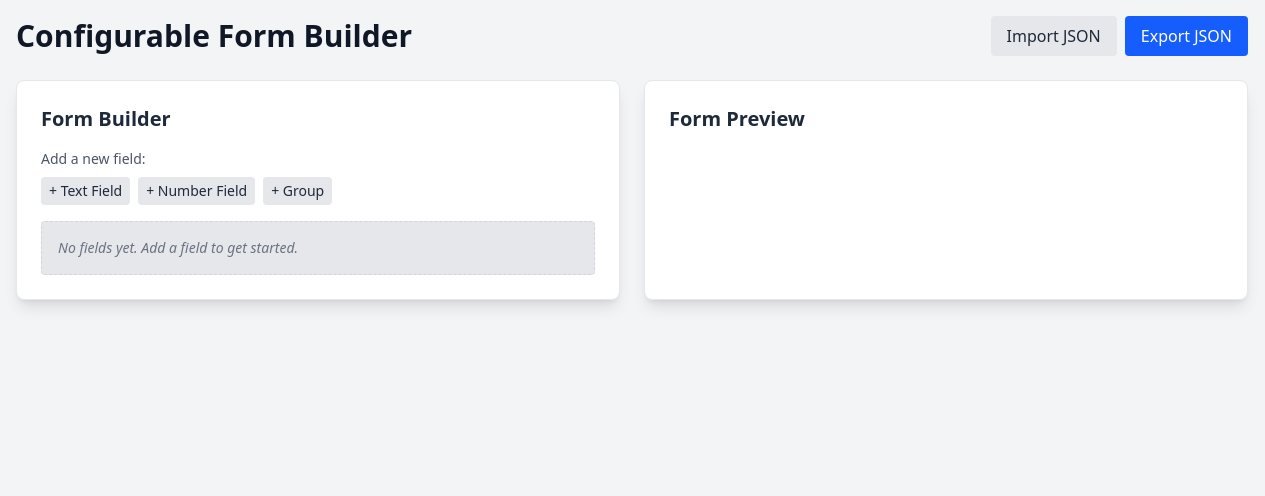
Test: ConfigurableFormBuilder › adding fields › adds text field when button is clicked
The width and height of the screenshot is (1265, 496).
What coordinates should you click on to do the following:
click the button "+ Text Field"
I would click on:
 (86, 191)
Its box is [41,177,130,205].
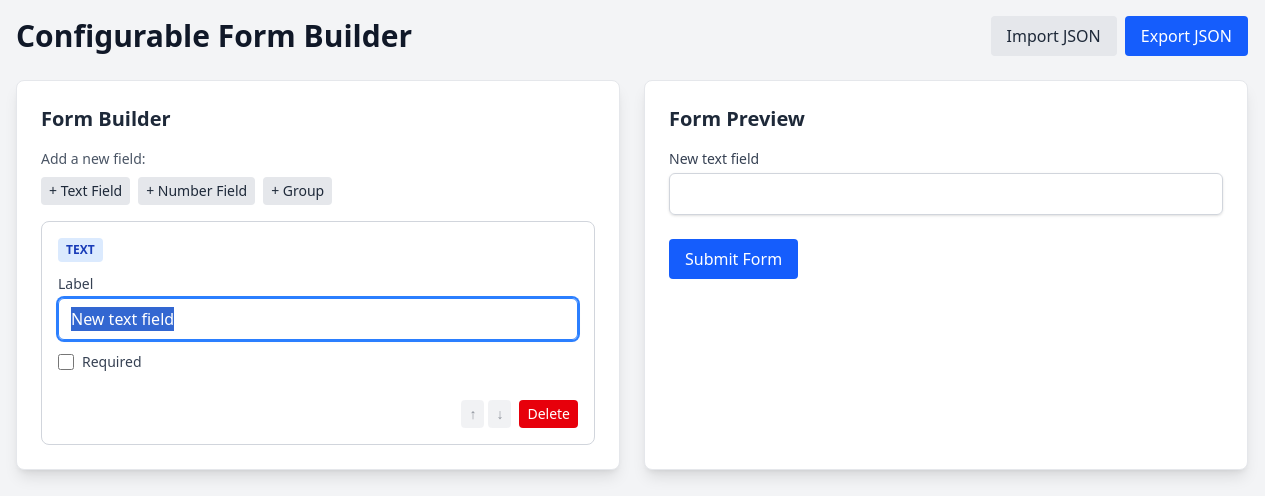
Check: the field labelled "Label" is shown, box [58,298,578,340]
